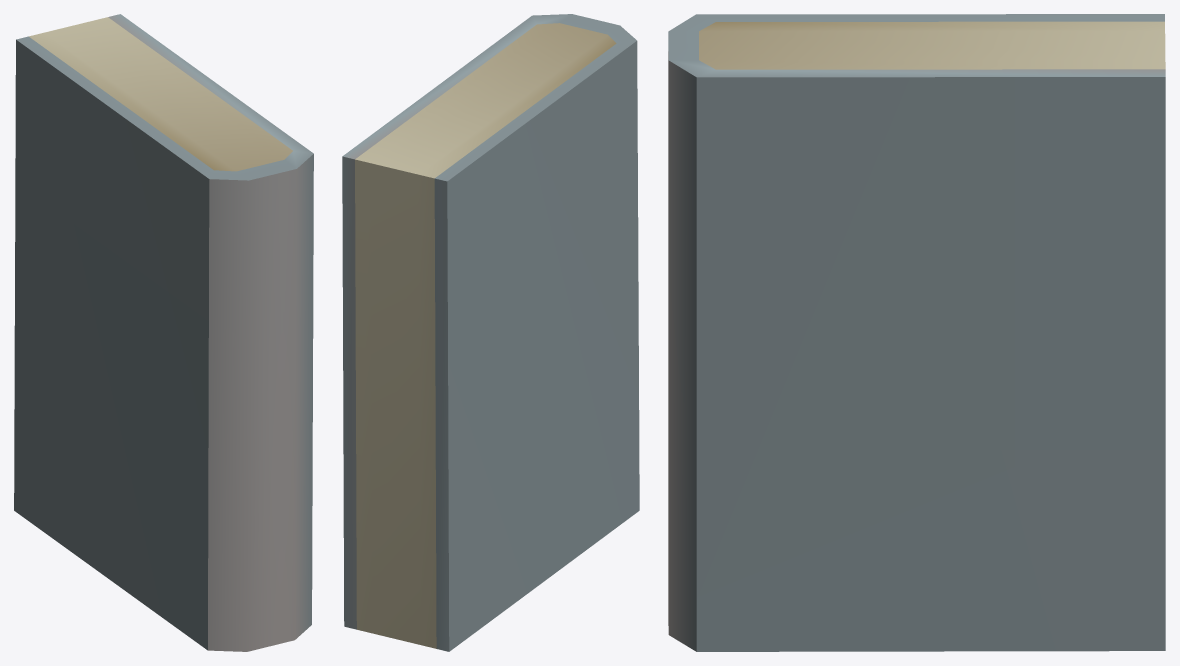
The model's file is Book_Simplified_Single.glb.
3 renders of one model, left to right at view 1: azimuth 30°, elevation 25°; view 2: azimuth 150°, elevation 25°; view 3: azimuth 270°, elevation 25°, orthographic. The views are drawn at different scales.
Parts seen in each view (by area): view 1: Book_Simplified_Single; view 2: Book_Simplified_Single; view 3: Book_Simplified_Single.
Boxes of the visible parts, x1,y1,x2,y2 form: Book_Simplified_Single: [14, 14, 313, 651]; Book_Simplified_Single: [342, 14, 639, 651]; Book_Simplified_Single: [668, 14, 1165, 651].
Size of the model in its own units: 0.0646 by 0.2683 by 0.21.
